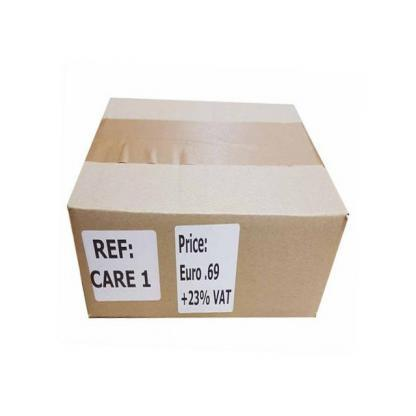package: (66, 97, 349, 323)
